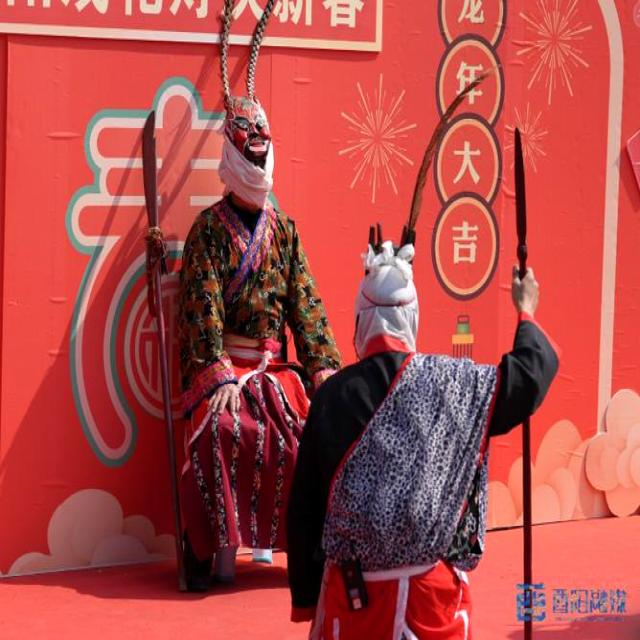Reeves-s Pheasant: (246, 0, 280, 100), (217, 0, 237, 95)
